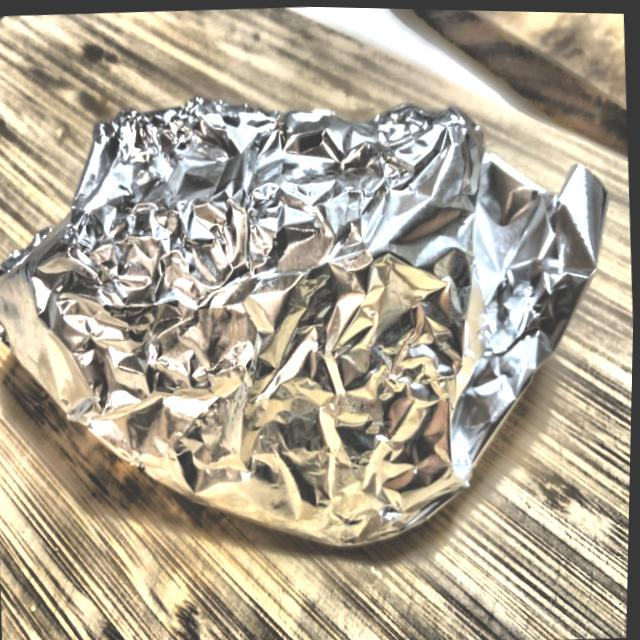Foil: (0, 61, 636, 582)
